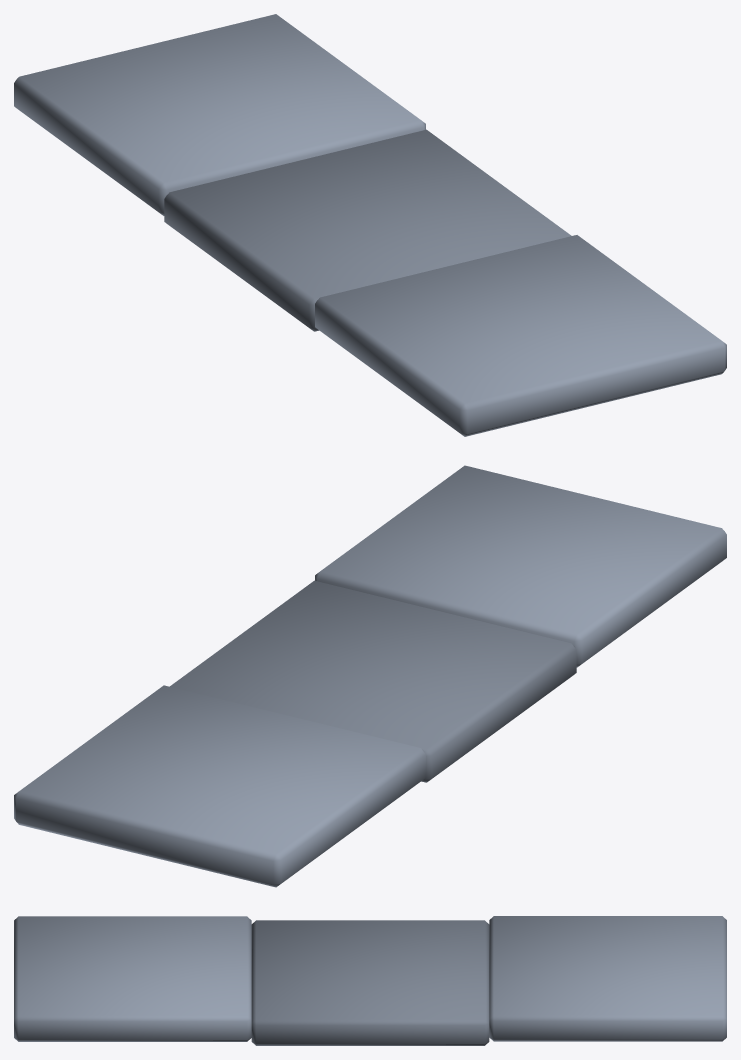
Rendered from Sidewalk_Panels.fbx.
The picture shows the model from 3 angles, top to bottom: view 1: azimuth 30°, elevation 25°; view 2: azimuth 150°, elevation 25°; view 3: azimuth 270°, elevation 25°; orthographic projection. The views are drawn at different scales.
Parts seen in each view (by area): view 1: Cube.224, Cube.226, Cube.225; view 2: Cube.226, Cube.224, Cube.225; view 3: Cube.225, Cube.224, Cube.226.
Part boxes in pixels (x1,y1,x2,y2): Cube.224: (315,235,726,436); Cube.226: (14,14,425,215); Cube.225: (164,129,571,331); Cube.226: (14,685,425,887); Cube.224: (315,465,726,667); Cube.225: (170,580,576,782); Cube.225: (251,920,489,1045); Cube.224: (14,916,251,1041); Cube.226: (489,916,726,1041).
Bounding box in the file's own units: 323 × 45.13 × 946.
